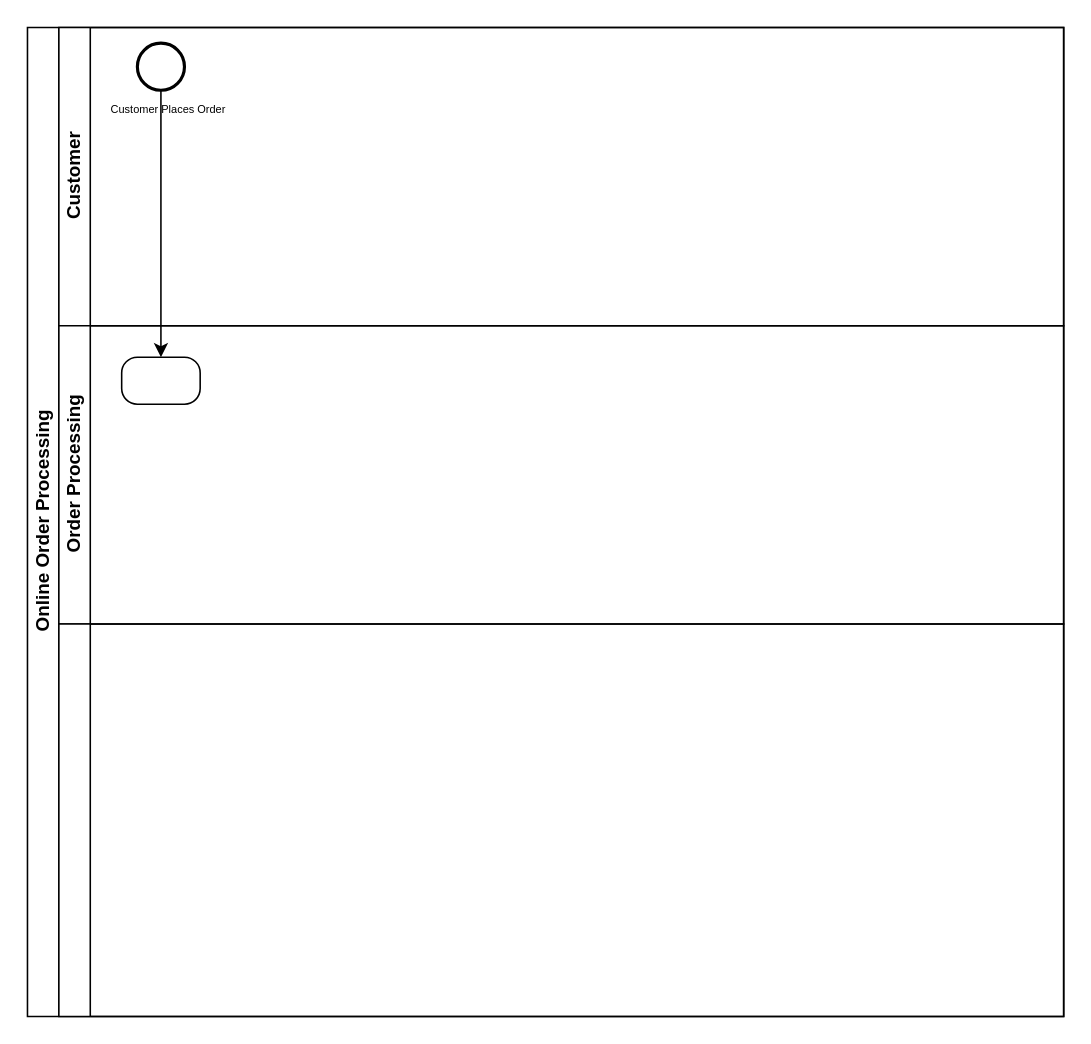
Some shapes in this 1091 by 1044 pixel diagram are drawn without their labels. Each missing label, with the box of its shape:
Deilvery: (57, 623, 1064, 1017)
Payment Verification: (120, 356, 200, 404)
